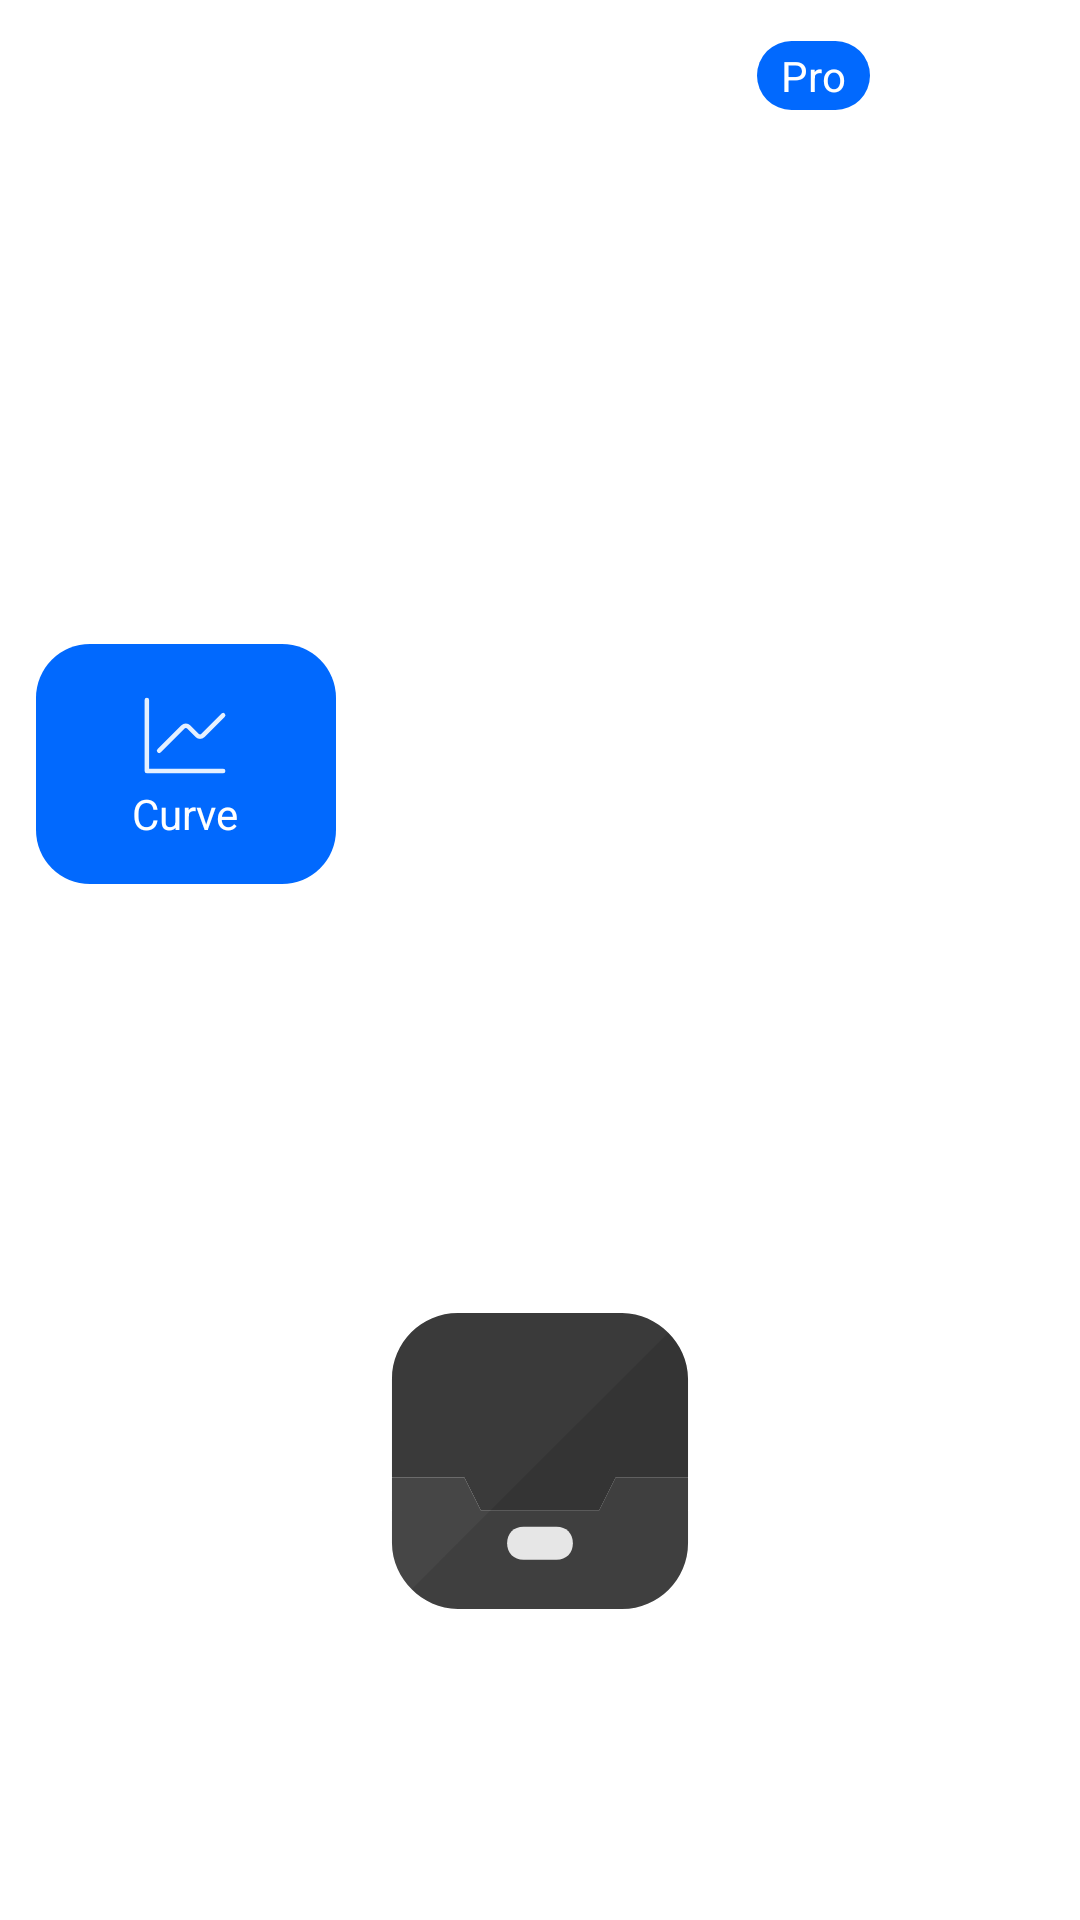

Named icons in this screenshot (1080x1920) and their centers, point (x, y):
empty: point (540, 1461)
